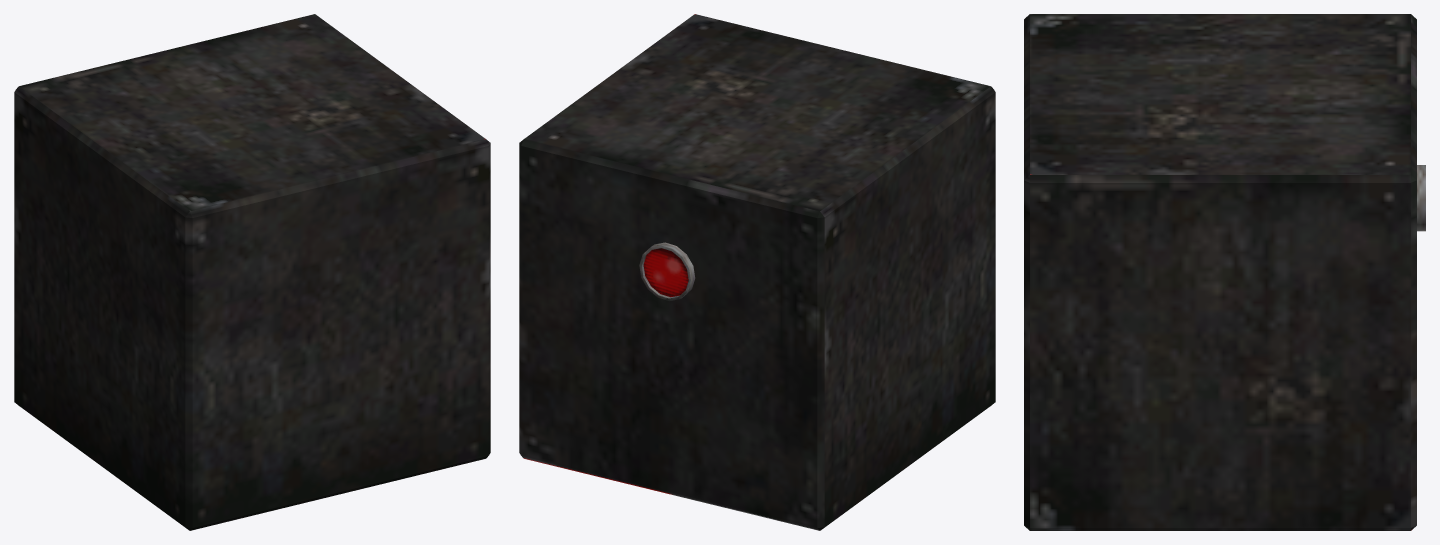
File: black_box.fbx
3 views of the same model, side by side, from view 1: azimuth 30°, elevation 25°; view 2: azimuth 150°, elevation 25°; view 3: azimuth 270°, elevation 25° (orthographic). The views are drawn at different scales.
Visible parts, largest first — view 1: mesh_0; view 2: mesh_0; view 3: mesh_0.
Part boxes in pixels (bbox=[...]): mesh_0: bbox=[14, 14, 490, 530]; mesh_0: bbox=[519, 14, 995, 530]; mesh_0: bbox=[1024, 14, 1425, 530].
Bounding box in the file's own units: 20 × 20 × 20.46.
1 material, 1 textured.
